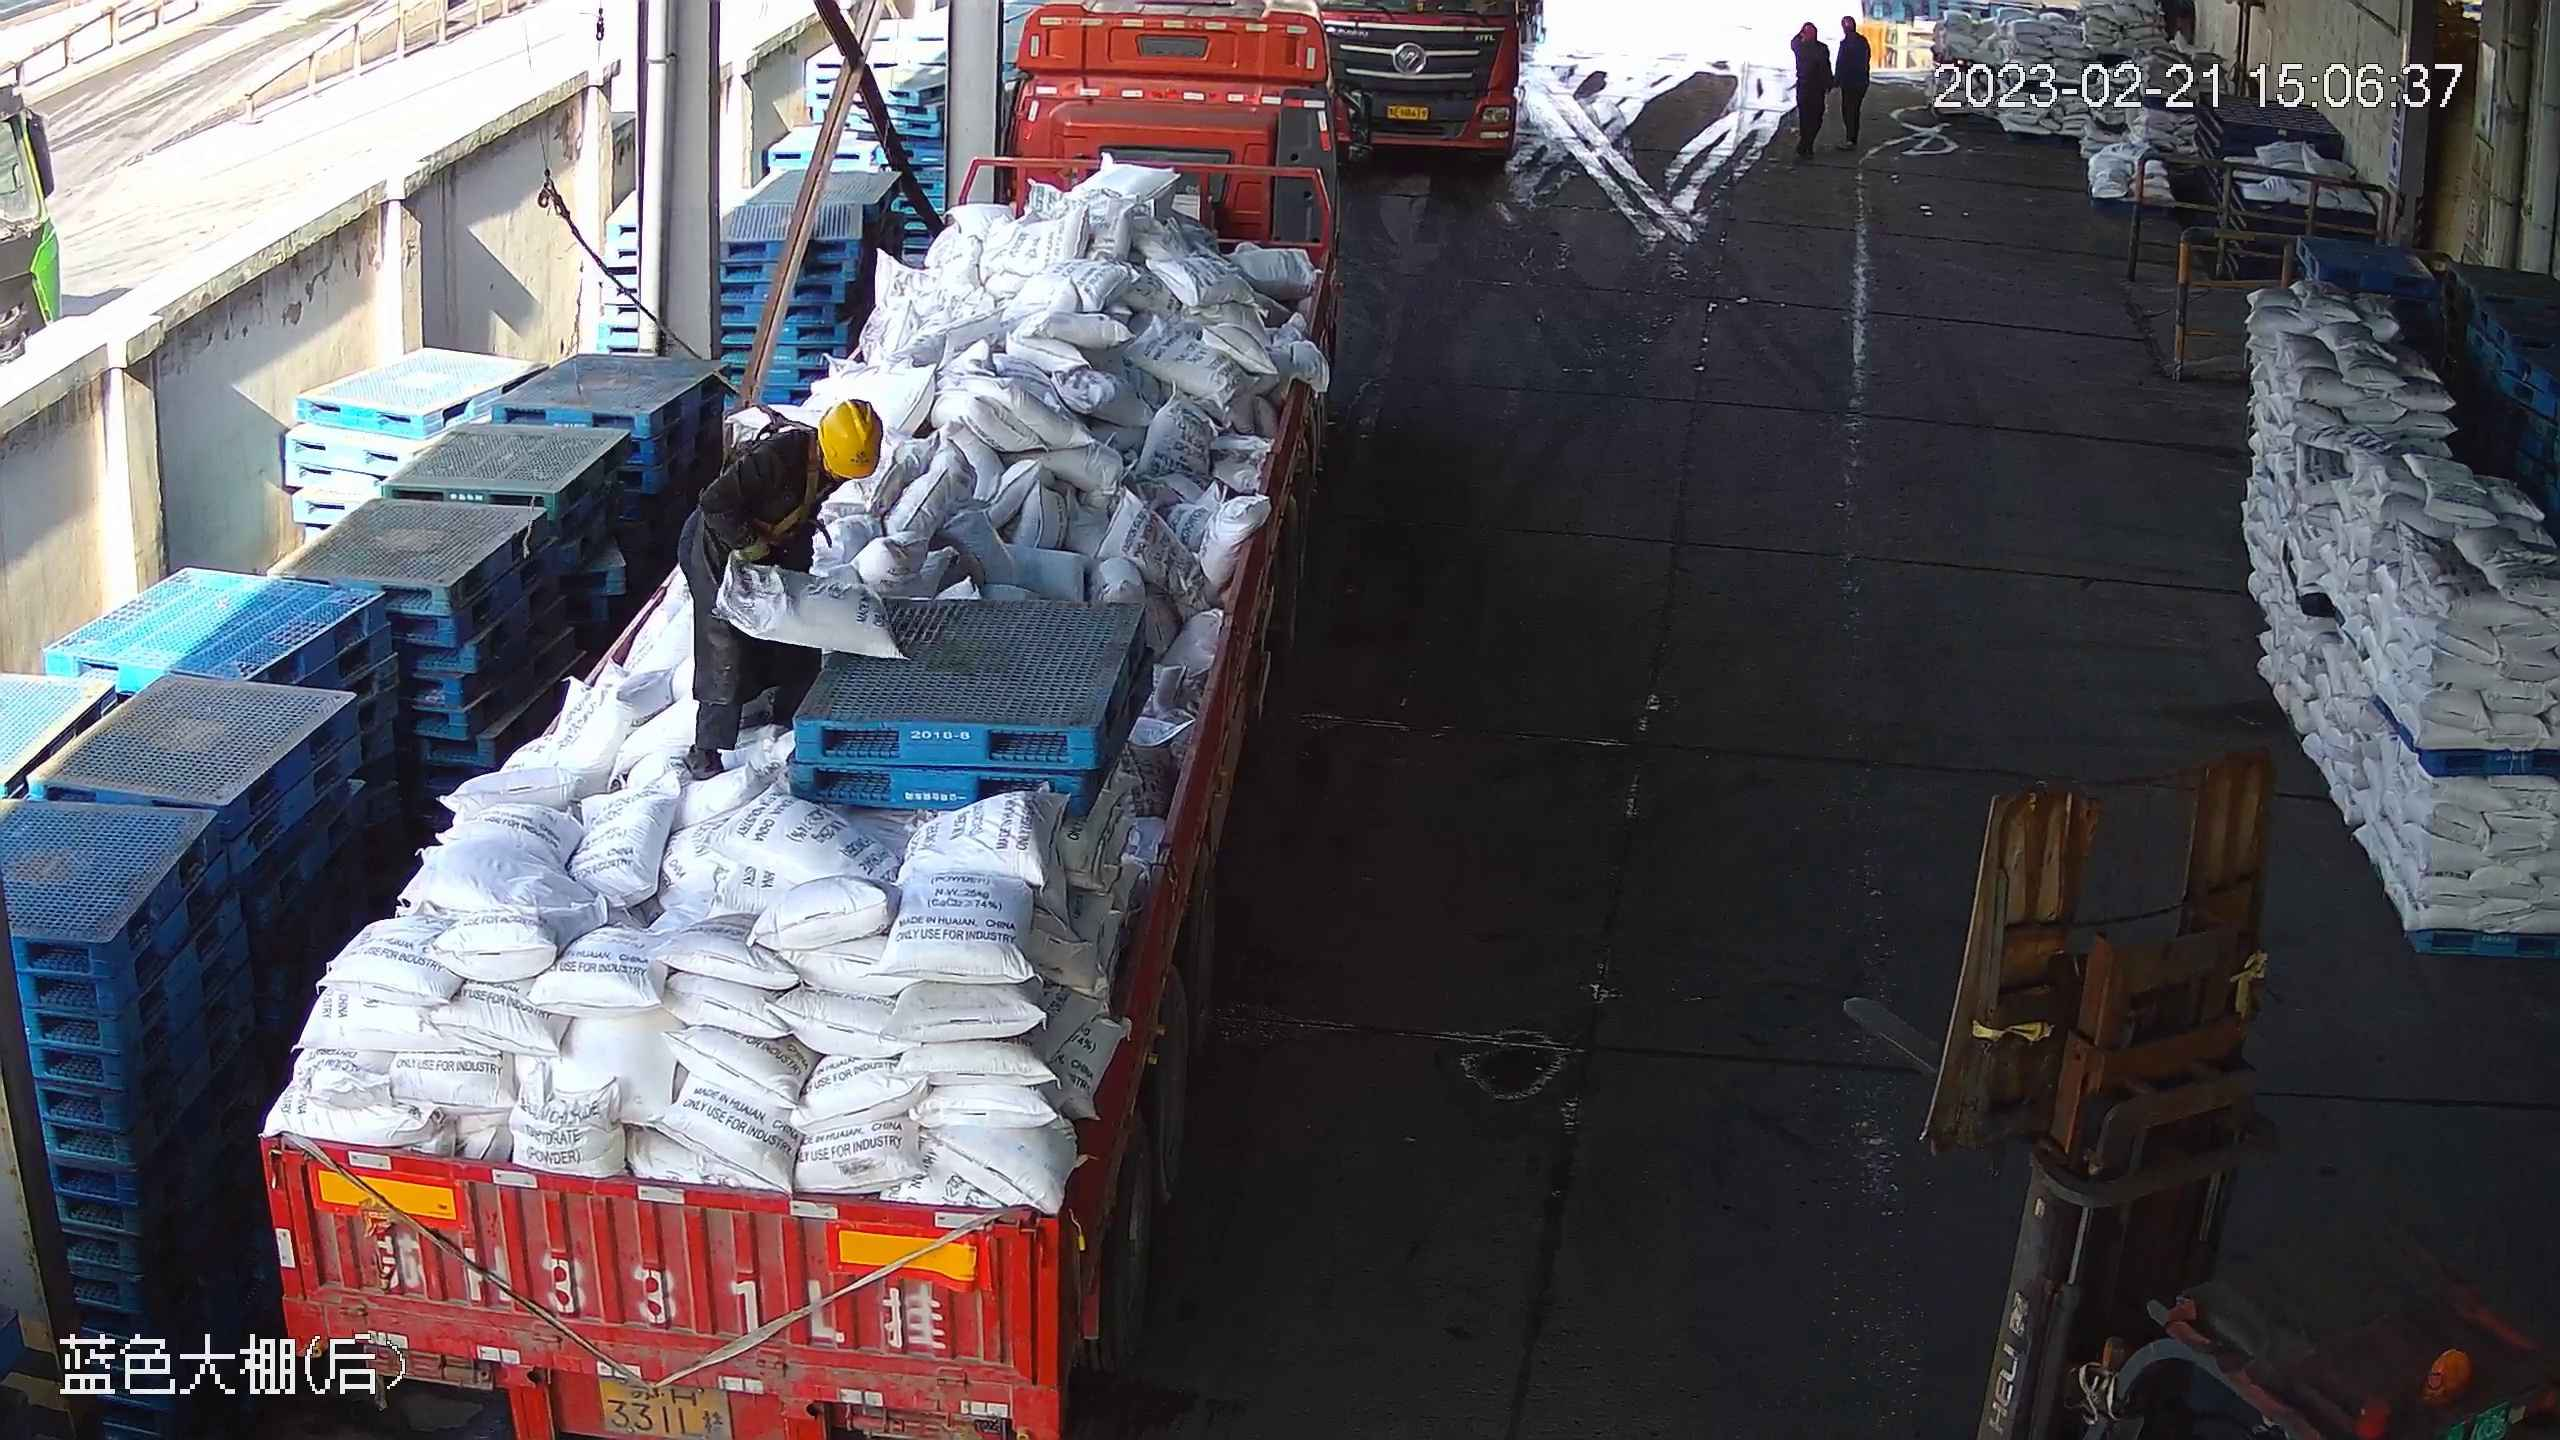belt: (750, 405, 834, 551)
head: (753, 399, 885, 498), (1786, 19, 1831, 64)
helmet: (821, 397, 881, 479), (1837, 14, 1869, 62), (1800, 22, 1818, 40), (1843, 15, 1856, 29)
people: (682, 399, 895, 784), (1788, 20, 1834, 160), (1834, 13, 1871, 154)
truck: (247, 1, 1337, 1428), (1323, 1, 1547, 174)
